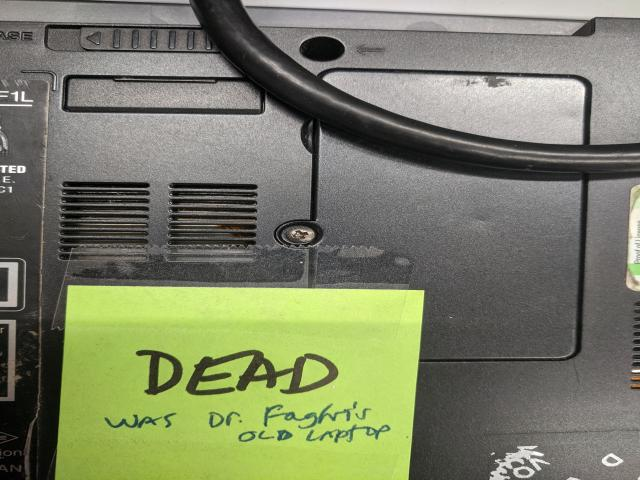CRS: (282, 224, 315, 246)
